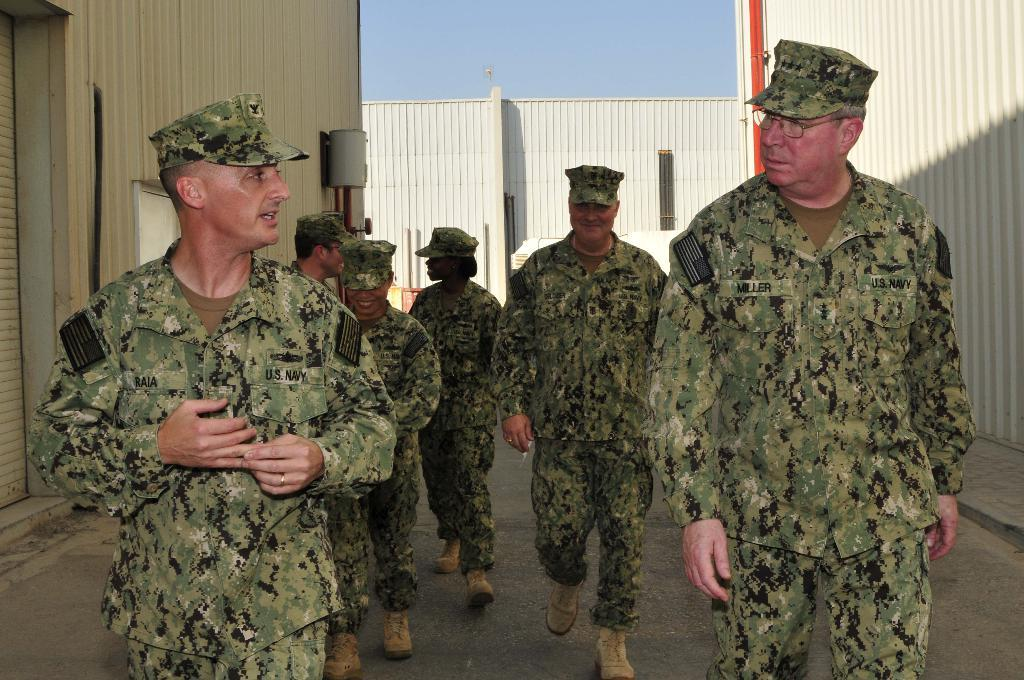Hat: (148, 90, 312, 166), (745, 36, 877, 122), (337, 238, 398, 290), (562, 160, 625, 207), (413, 226, 479, 260), (294, 212, 358, 247)
